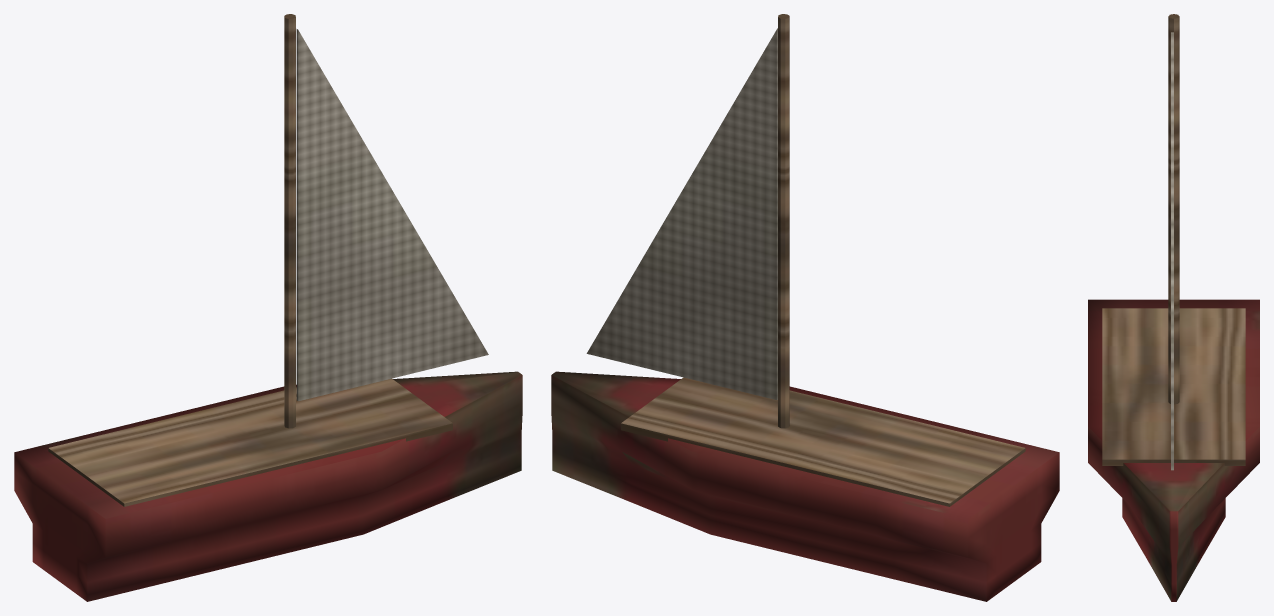
File: TY23_ToyBoat.glb
3 renders of one model, left to right at view 1: azimuth 30°, elevation 25°; view 2: azimuth 150°, elevation 25°; view 3: azimuth 270°, elevation 25°, orthographic. The views are drawn at different scales.
Visible parts, largest first — view 1: TY23_ToyBoat; view 2: TY23_ToyBoat; view 3: TY23_ToyBoat.
Boxes of the visible parts, <box> form: TY23_ToyBoat: <box>14,14,522,601</box>; TY23_ToyBoat: <box>551,14,1059,601</box>; TY23_ToyBoat: <box>1088,14,1259,601</box>.
Bounding box in the file's own units: 0.3784 × 0.4 × 0.1297.
Materials: 3 (3 with a texture image).
